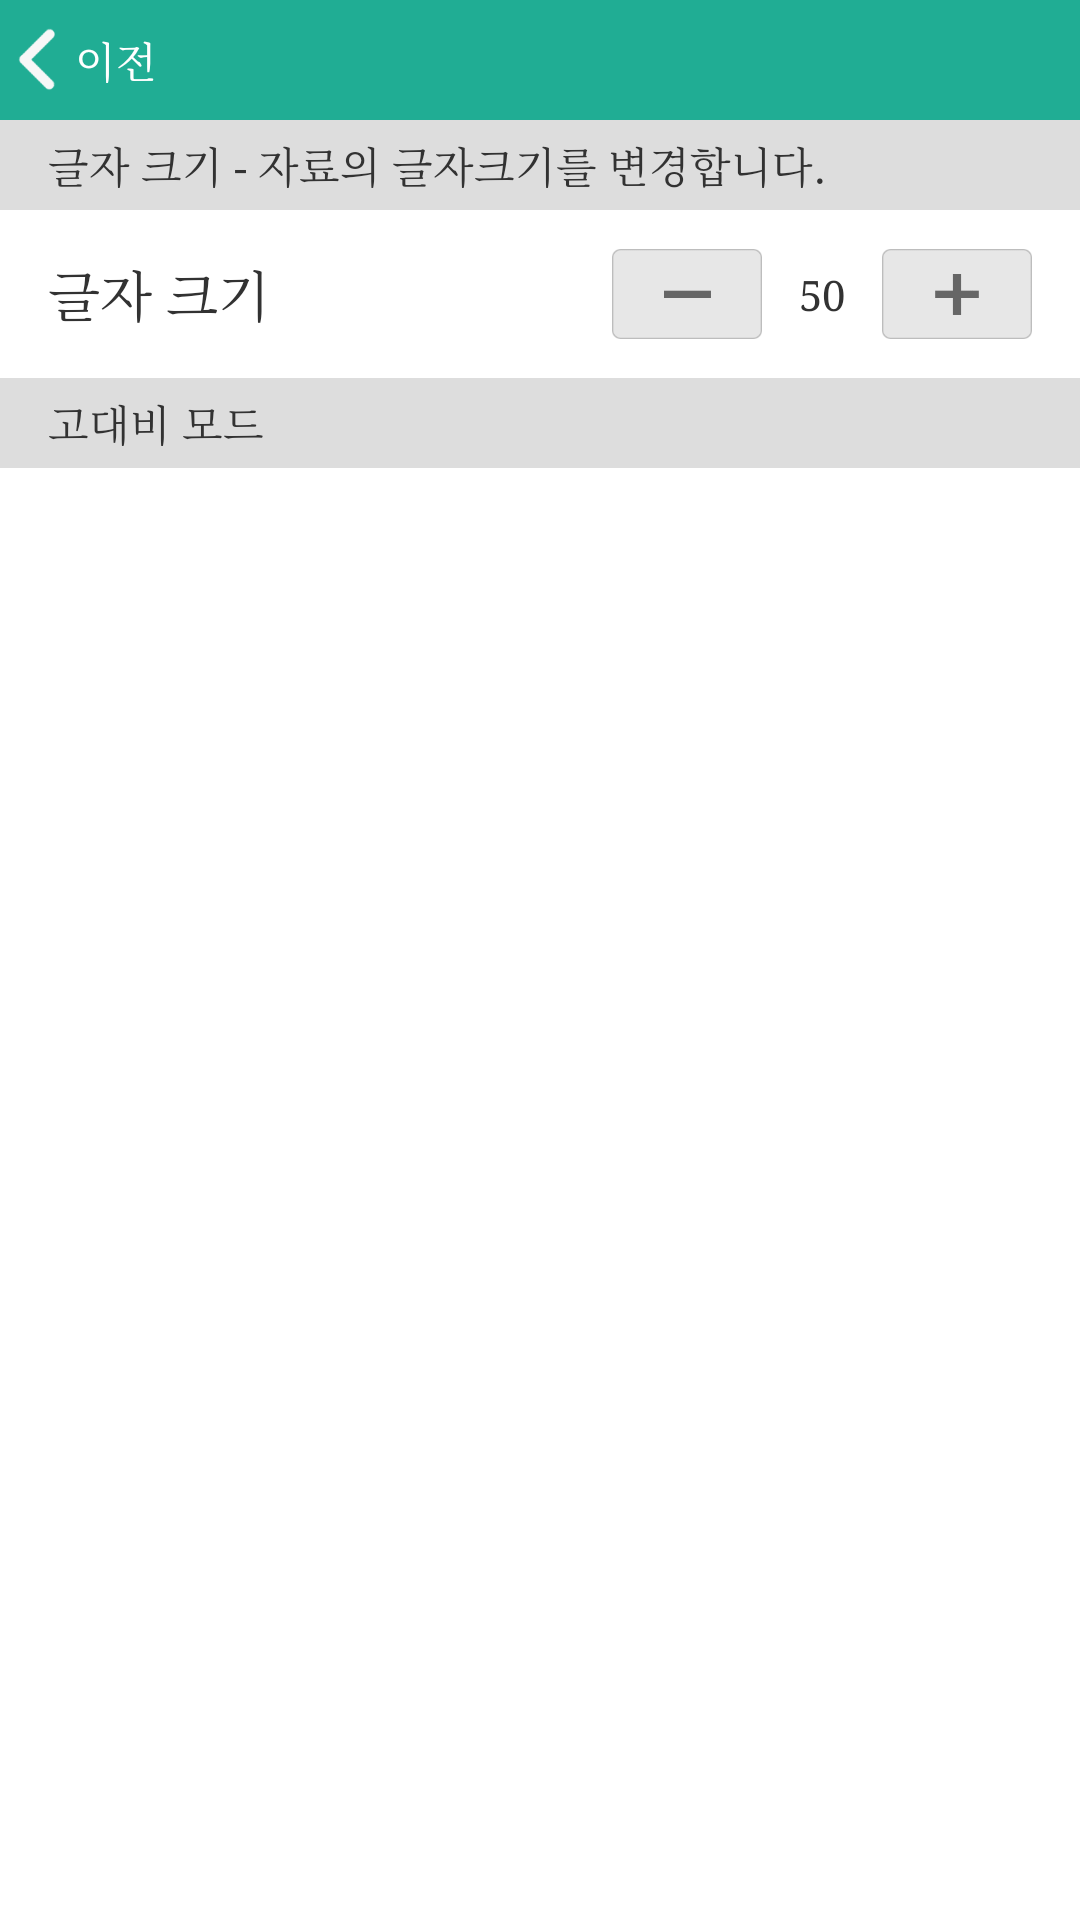

Screen size 1080×1920. Icon name, then its box in pixels as (x1=x1, y1=y1, x2=x2, y2=y2):
감소: (x1=612, y1=249, x2=762, y2=339)
증가: (x1=882, y1=249, x2=1032, y2=339)
